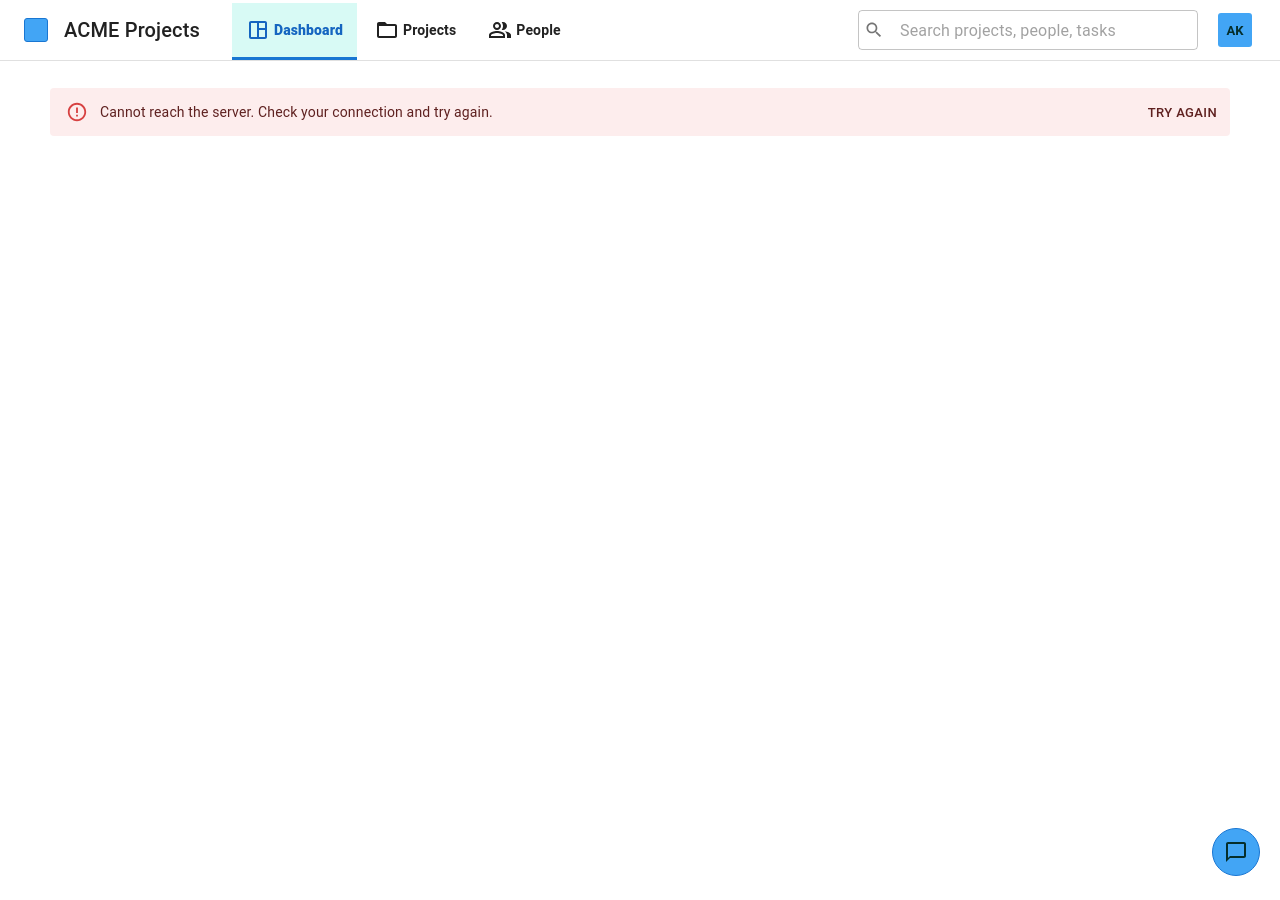
Test case: App routing › signs out from the account menu and lands on the sign-in page
Click the button named "Account menu": [1235, 30] box [1214,9,1256,51]
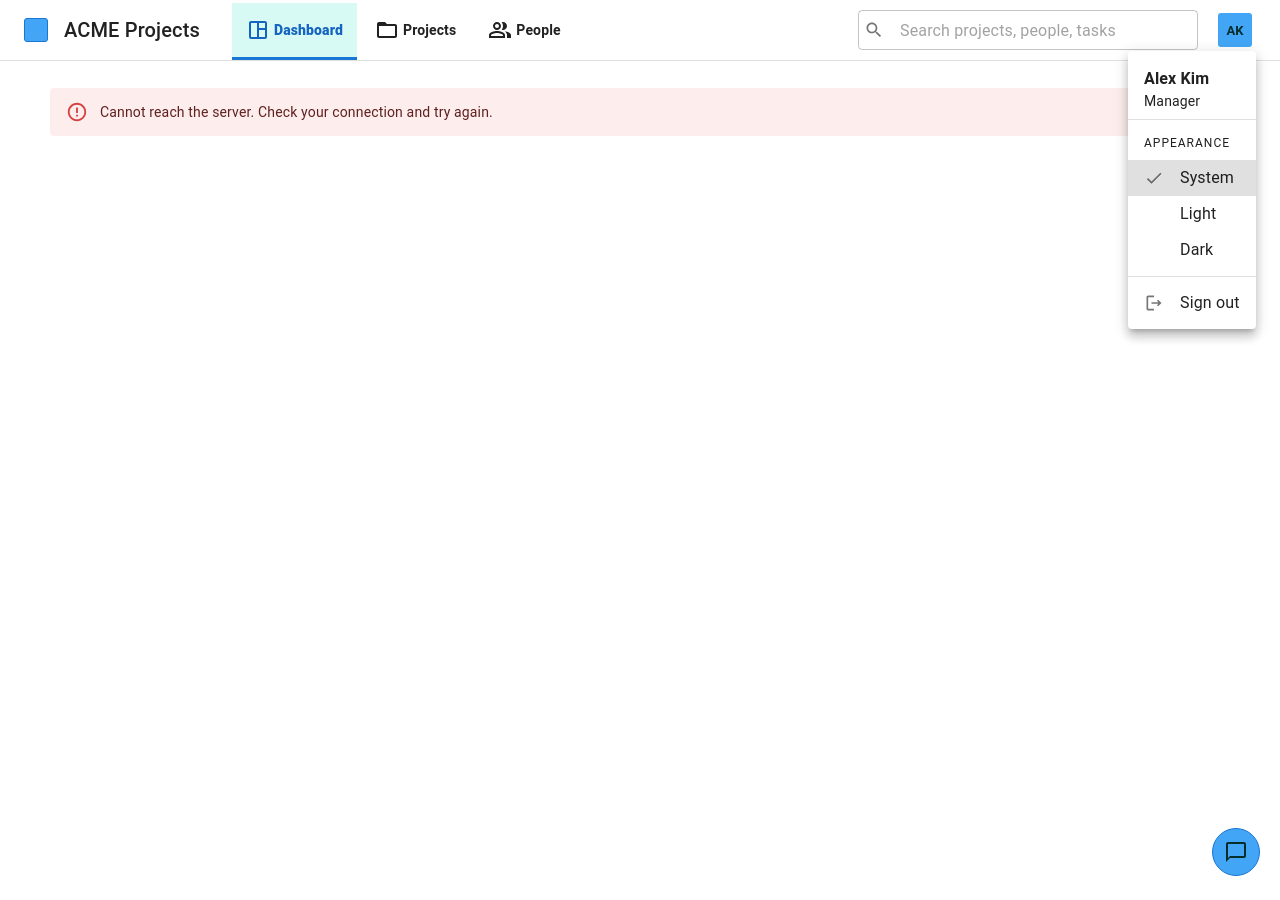
Click the menu item "Sign out": [1192, 303] box [1144,293,1240,313]
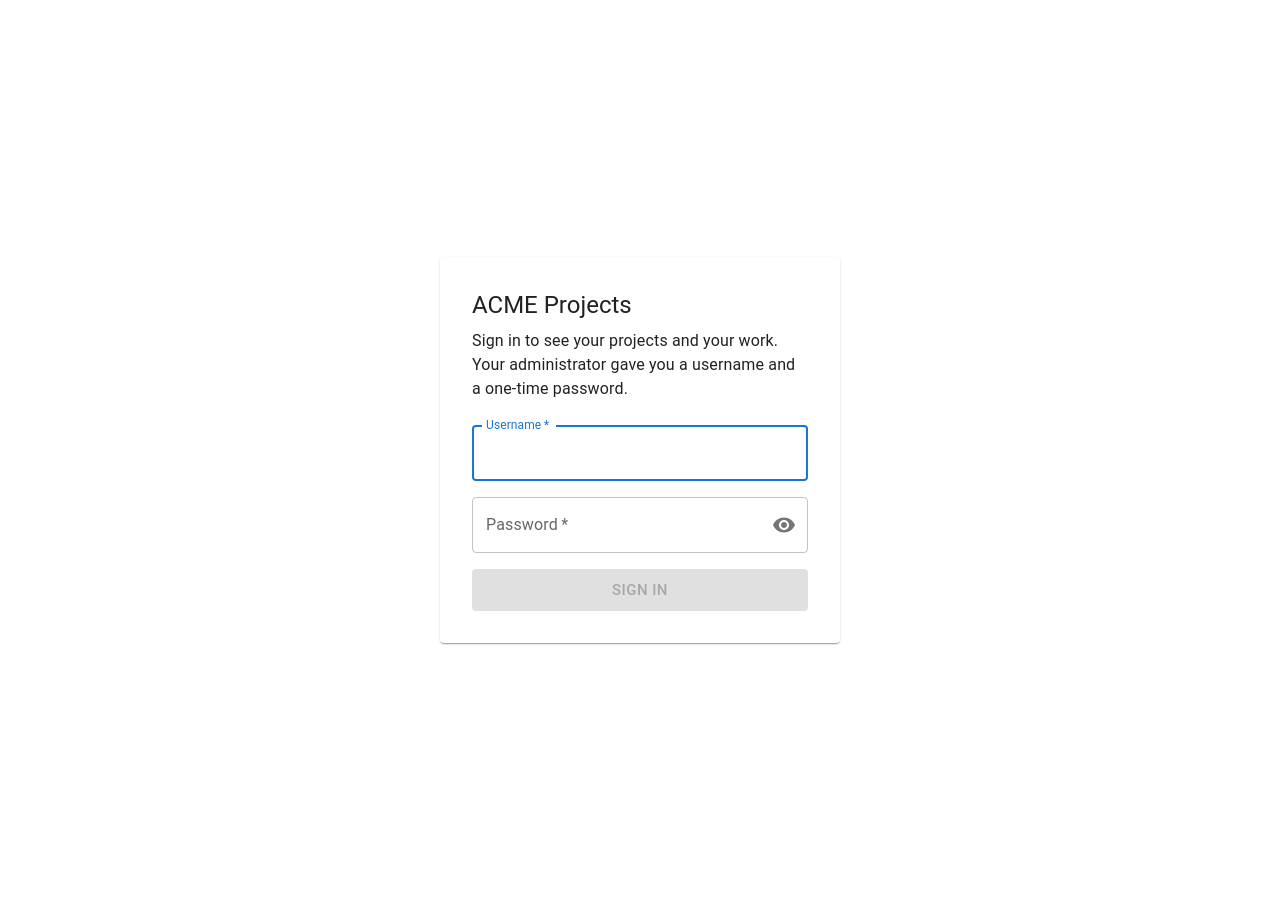
Now the button "Sign in" is shown, box [472,569,808,611]
